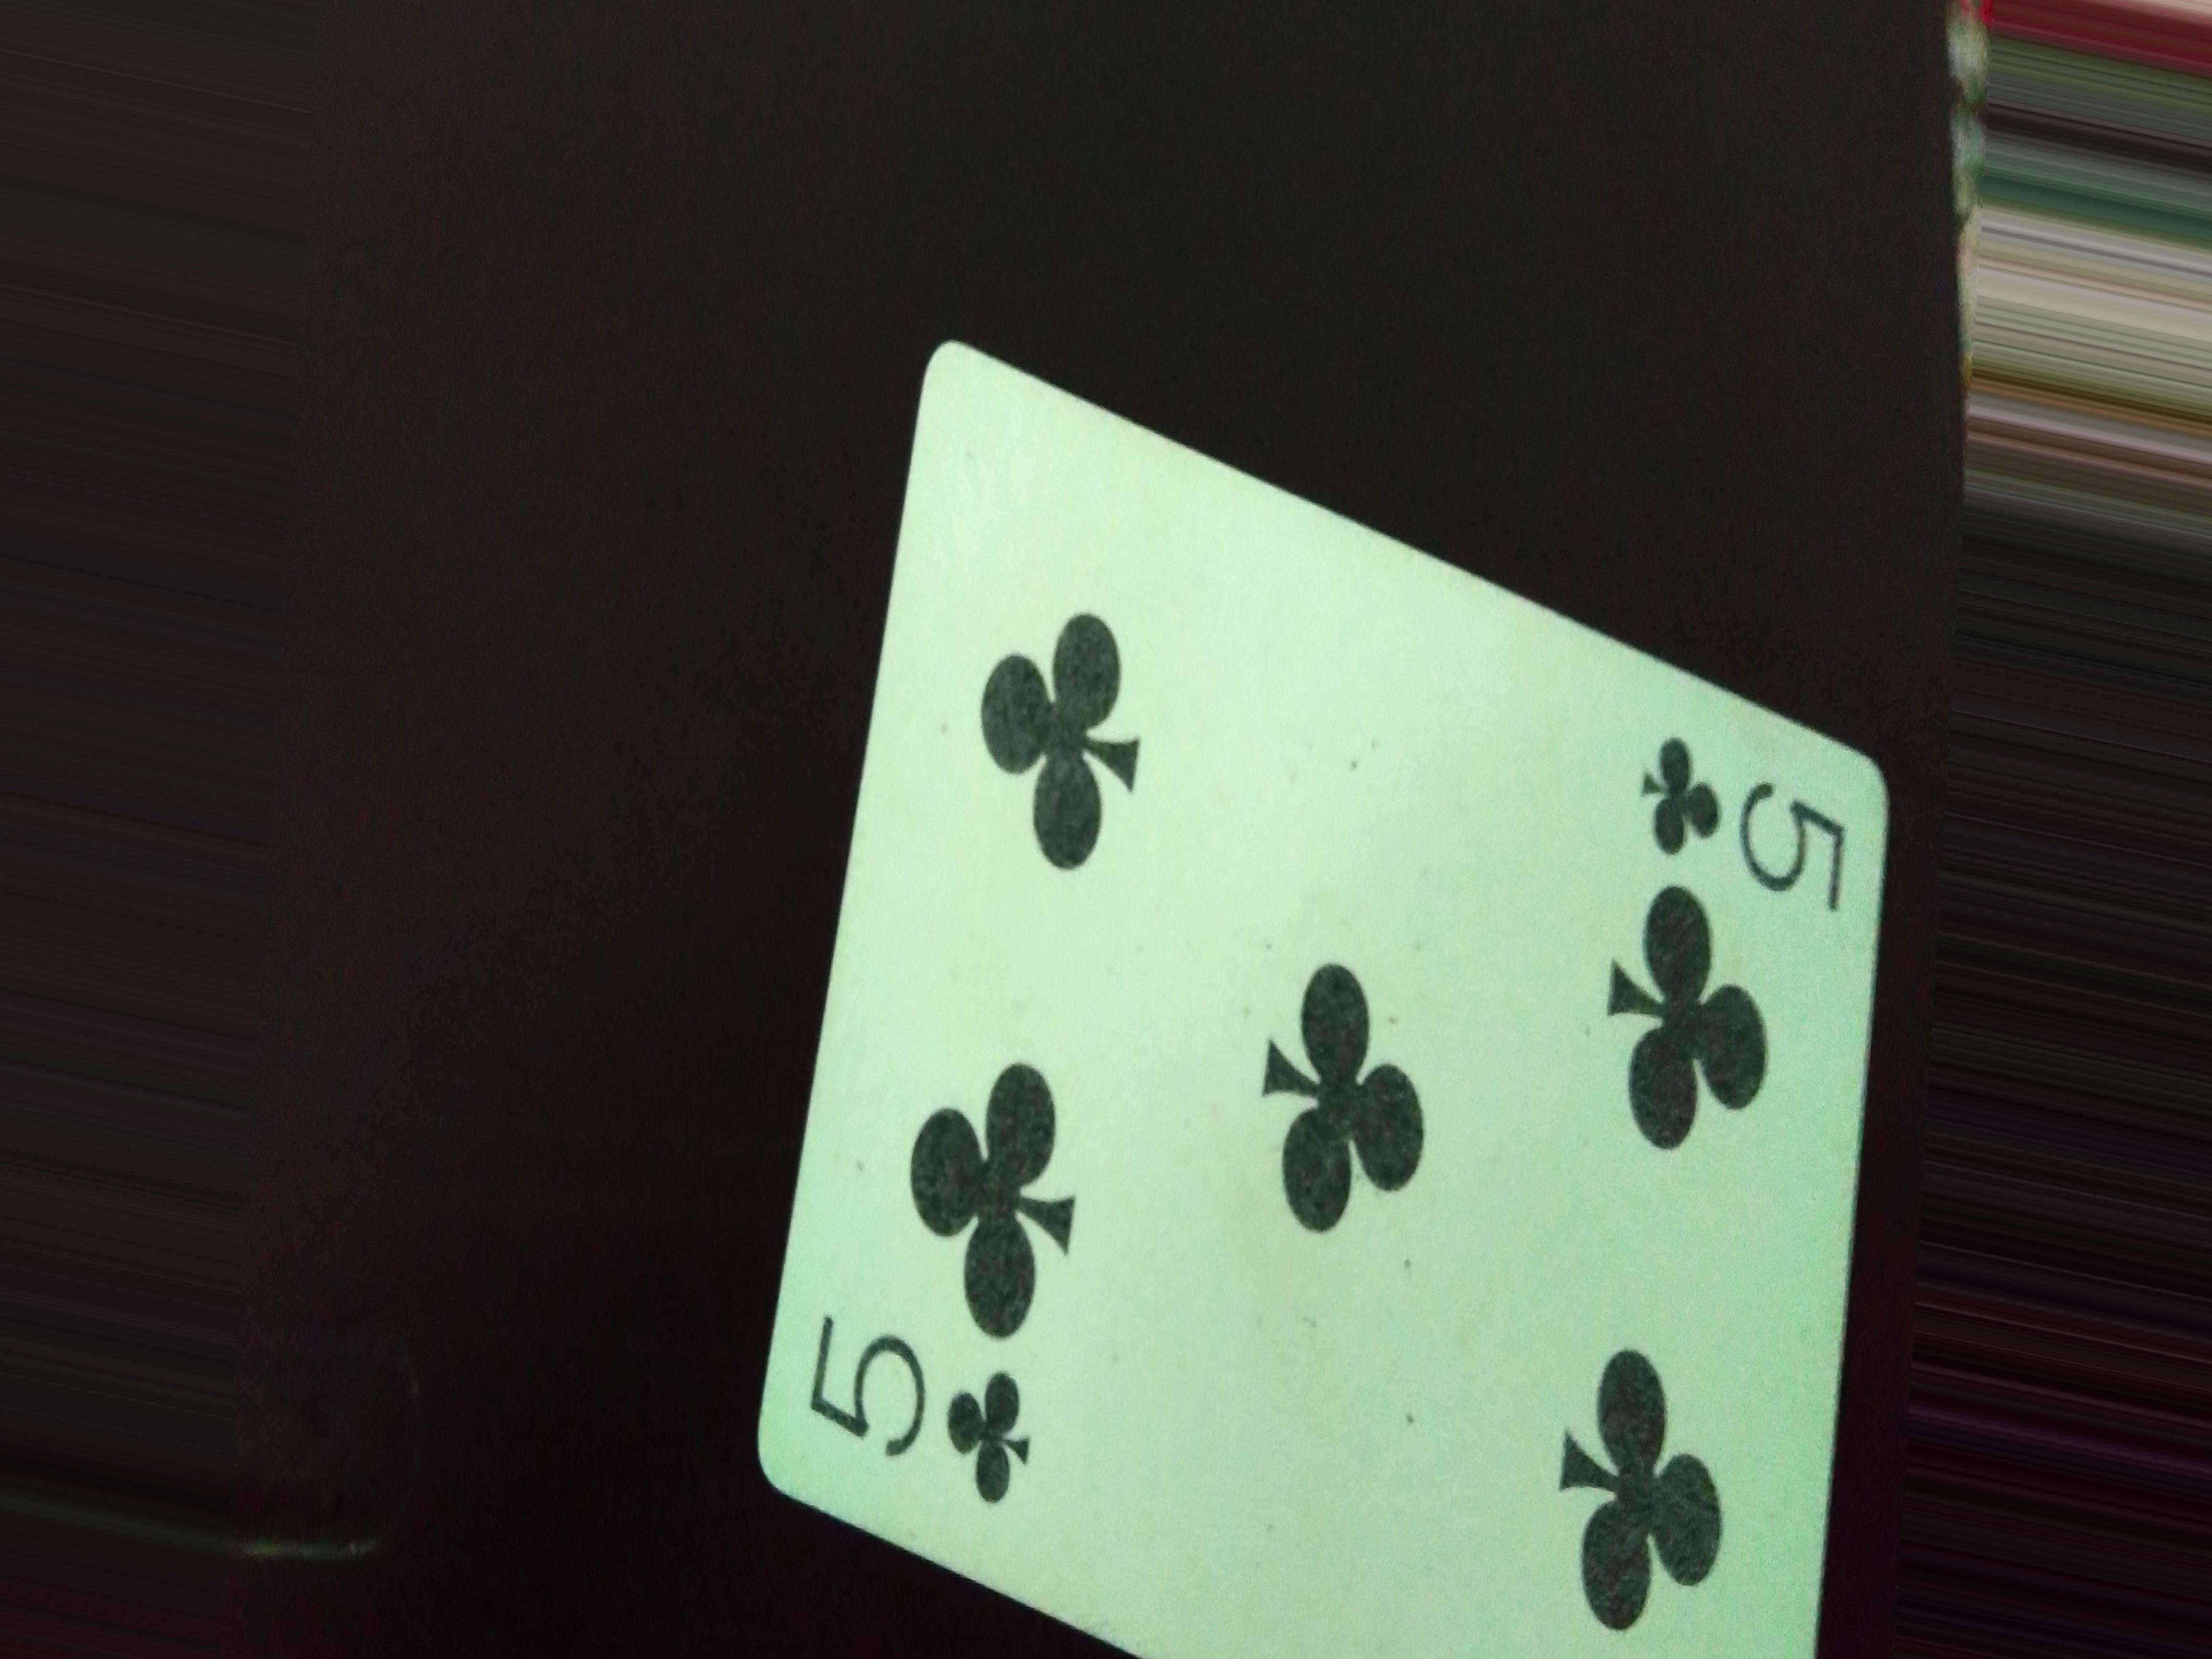5C: (792, 1305, 1049, 1534)
